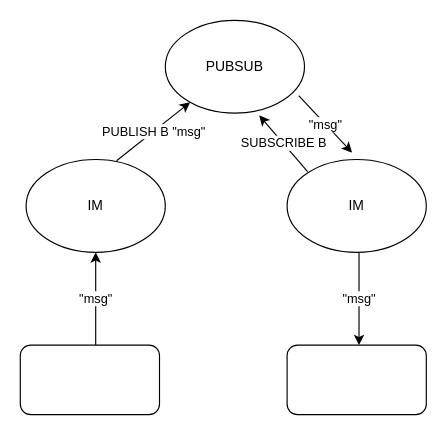
Some shapes in this 447 by 435 pixel diagram are drawn without their labels. The shapes that lost their labels are listed below. From the top down, each one's centre as x and y in pixels, then its label:
pixel 89 379: Sender (A)
pixel 356 379: Receiver (B)
